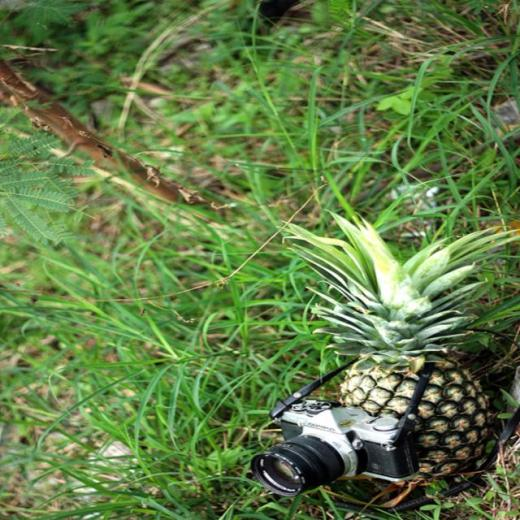Mango: (277, 208, 519, 478)
